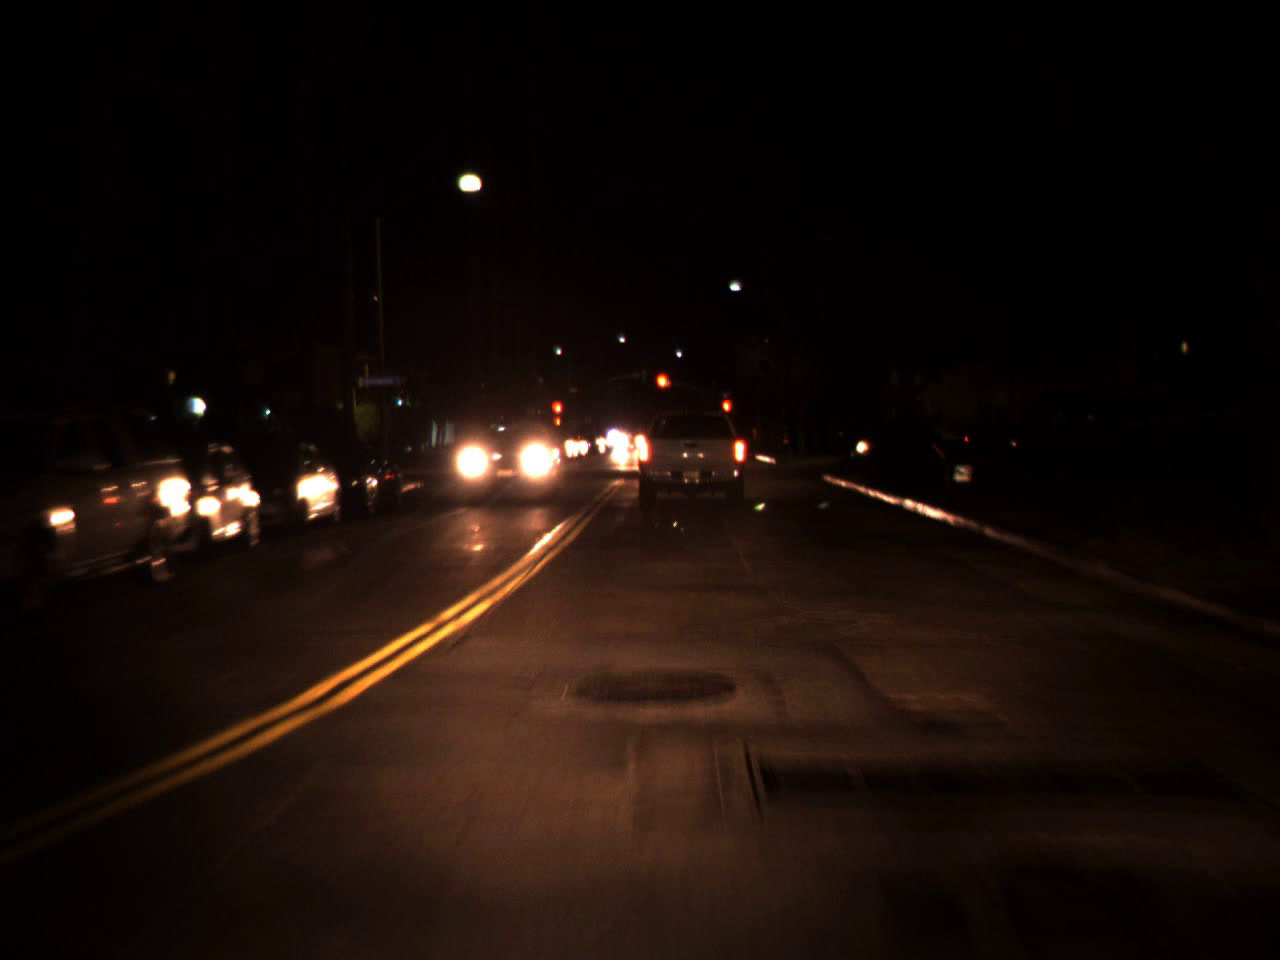stop: (653, 370, 672, 407), (549, 399, 564, 431), (721, 397, 733, 429)
